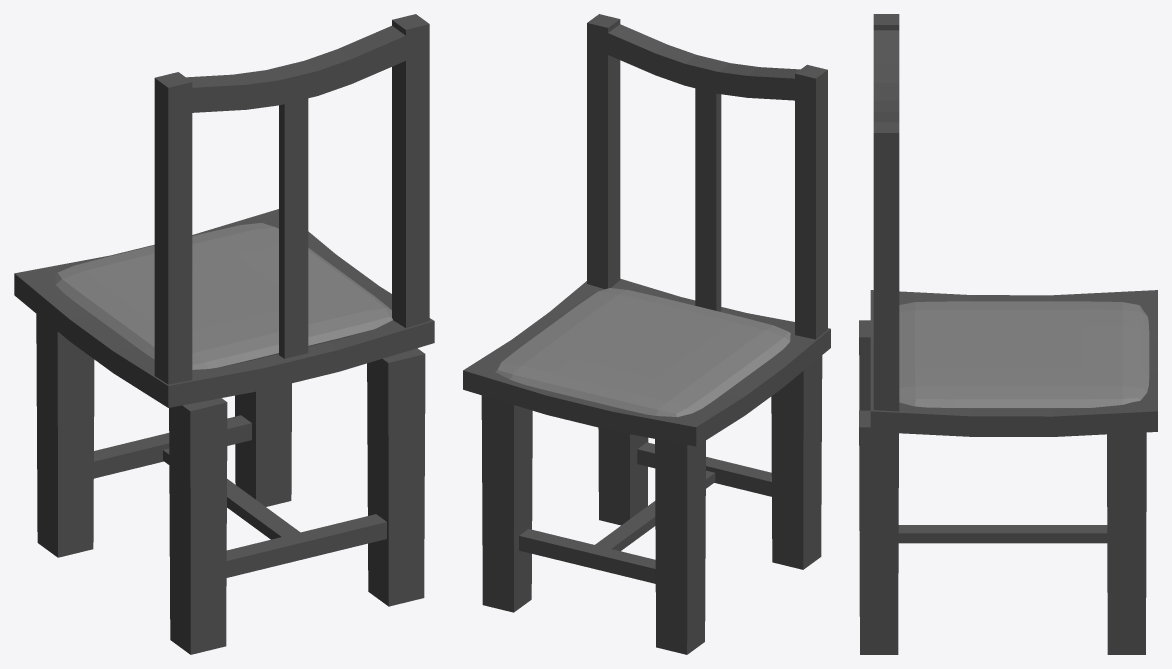
Rendered from Chair#1Model.fbx.
The picture shows the model from 3 angles, left to right: view 1: azimuth 30°, elevation 25°; view 2: azimuth 150°, elevation 25°; view 3: azimuth 270°, elevation 25°; orthographic projection. The views are drawn at different scales.
Visible parts, largest first — view 1: Chair#1Model; view 2: Chair#1Model; view 3: Chair#1Model.
Part boxes in pixels (x1=…): Chair#1Model: x1=14, y1=14, x2=434, y2=654; Chair#1Model: x1=463, y1=14, x2=830, y2=654; Chair#1Model: x1=859, y1=14, x2=1157, y2=654.
Bounding box in the file's own units: 75.09 × 152 × 78.16.
